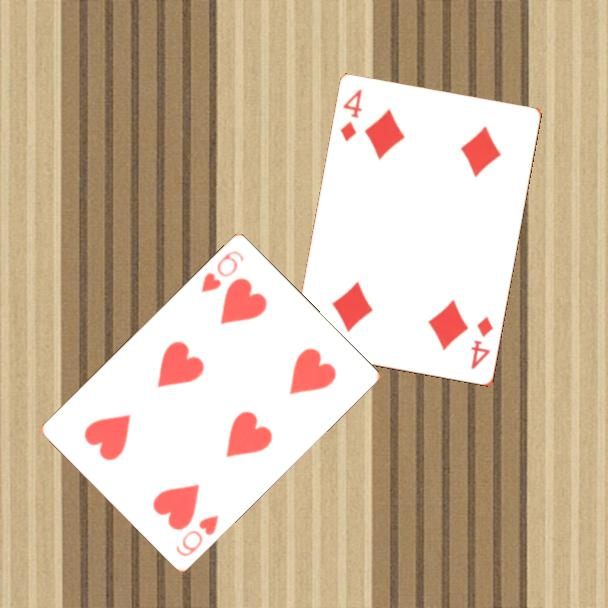d04: (468, 313, 496, 373), (337, 86, 365, 145)
h06: (197, 246, 247, 295), (172, 511, 222, 559)
